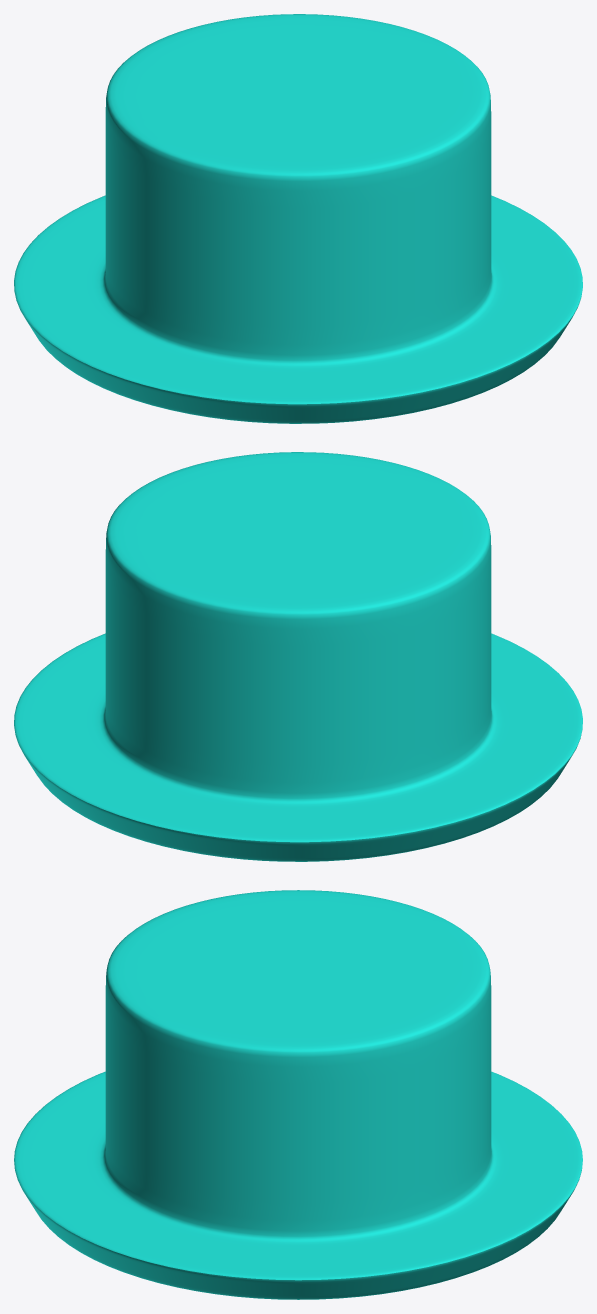
3 renders of one model, top to bottom at view 1: azimuth 30°, elevation 25°; view 2: azimuth 150°, elevation 25°; view 3: azimuth 270°, elevation 25°, orthographic.
Visible parts, largest first — view 1: Object_2.004; view 2: Object_2.004; view 3: Object_2.004.
Part boxes in pixels (x1,y1,x2,y2): Object_2.004: (14,14,582,423); Object_2.004: (14,452,582,861); Object_2.004: (14,890,582,1299).
Bounding box in the file's own units: 1 × 0.4238 × 1.
